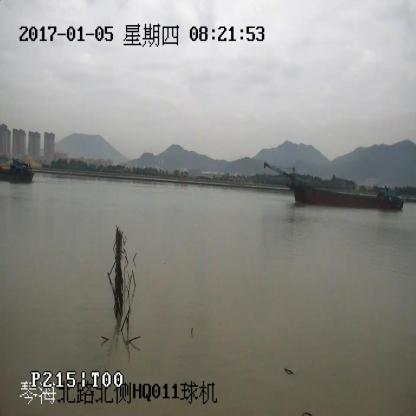Bulk Carrier: (265, 166, 403, 210), (0, 160, 33, 182)
